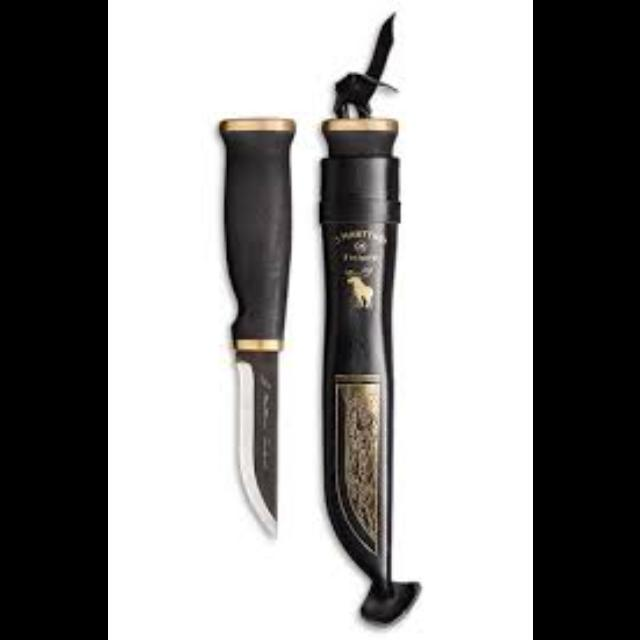Knife: (317, 10, 421, 626), (217, 115, 296, 538)
